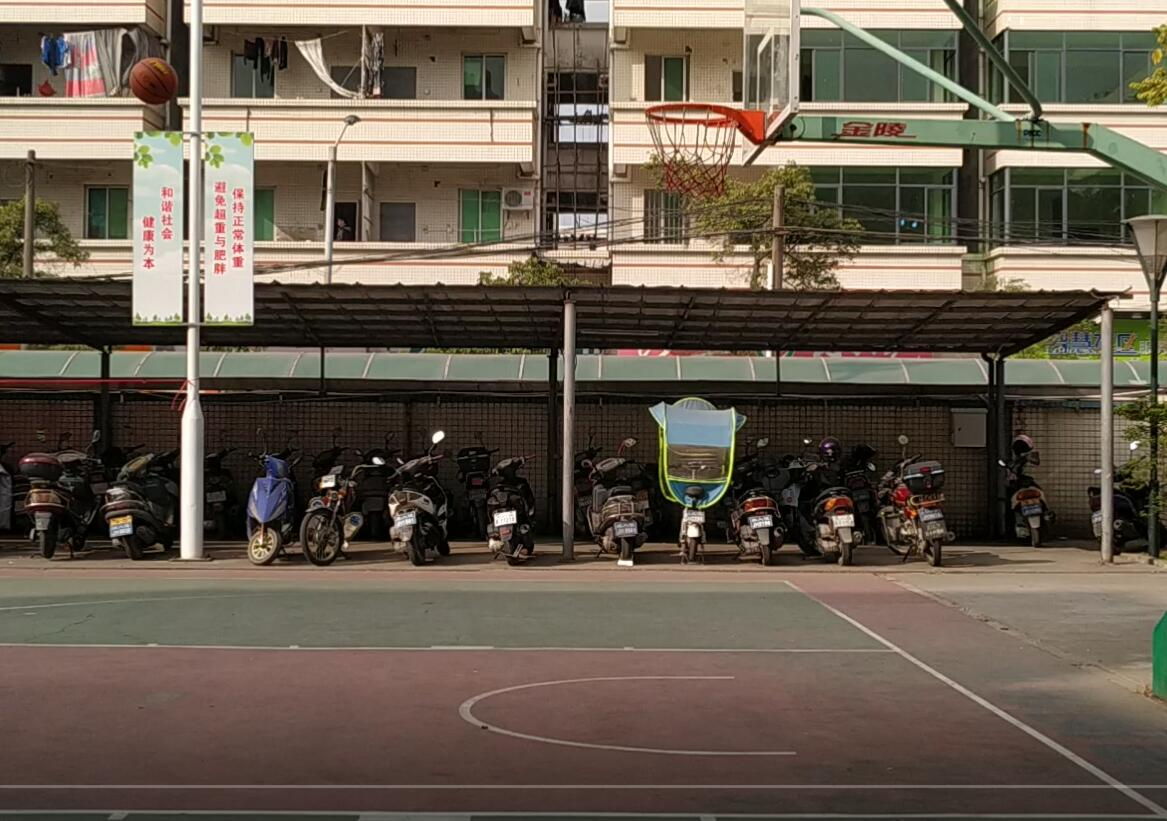basketball: (128, 55, 179, 105)
